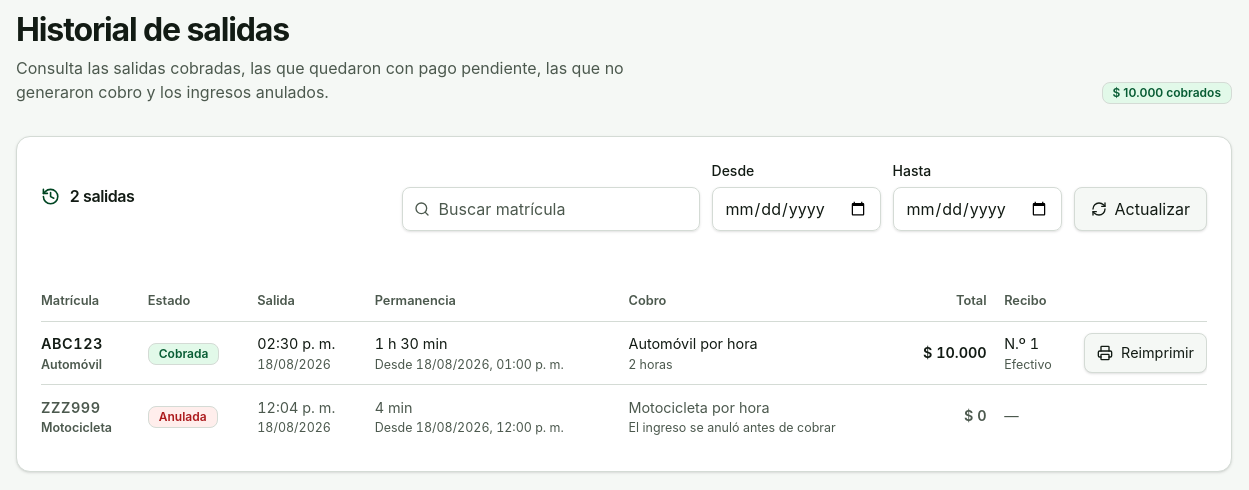
Test: Historial de salidas › reimprime el recibo de una salida antigua e informa el resultado
This screenshot has width=1249, height=490.
Click the button "Reimprimir".
click(1146, 353)  # box [1084,333,1207,373]
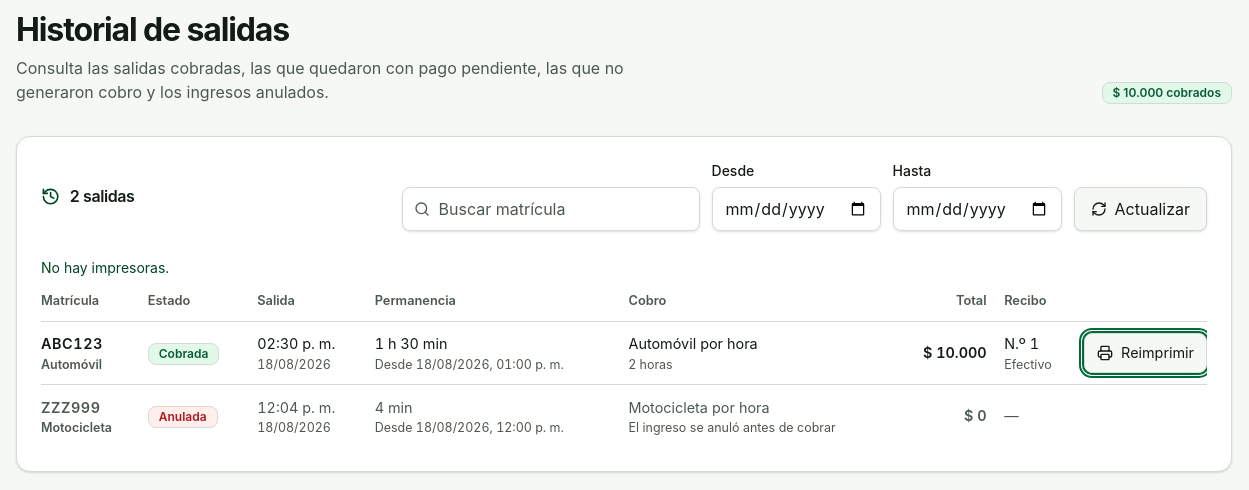
expect the text "No hay impresoras." is shown: met, box [41,259,169,276]
